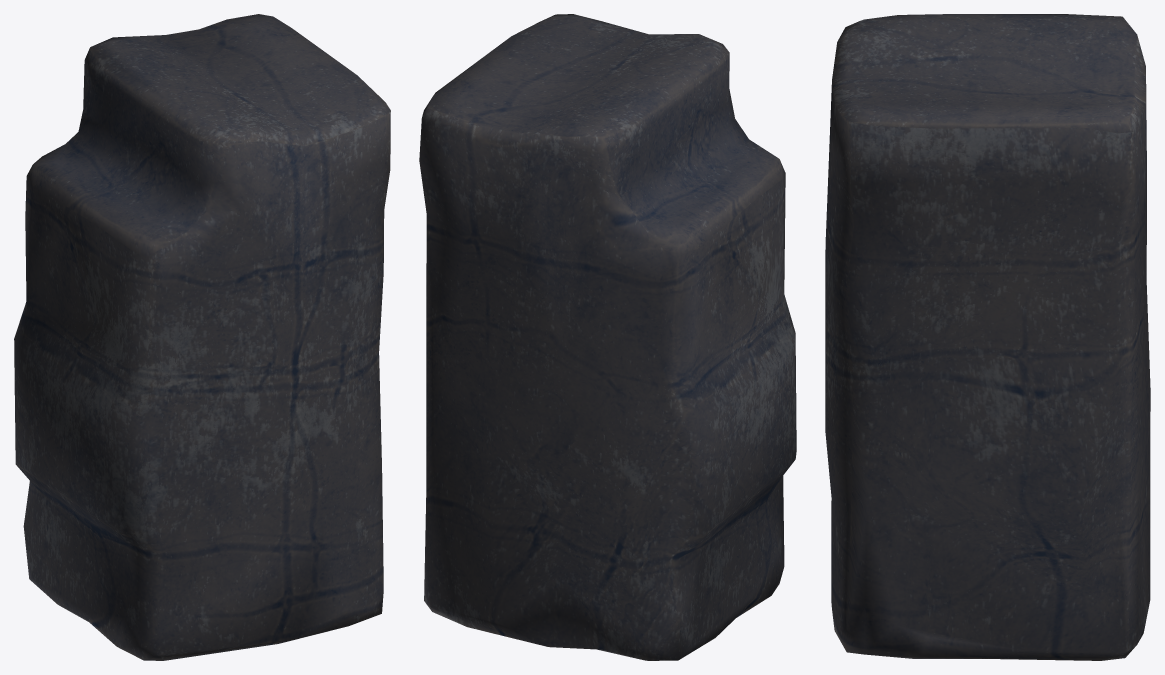
File: obstacle_petit1.obj
3 renders of one model, left to right at view 1: azimuth 30°, elevation 25°; view 2: azimuth 150°, elevation 25°; view 3: azimuth 270°, elevation 25°, orthographic. The views are drawn at different scales.
Visible parts, largest first — view 1: obstacle_petit1.001; view 2: obstacle_petit1.001; view 3: obstacle_petit1.001.
Part boxes in pixels (box(x1,y1,x2,y2)): obstacle_petit1.001: box(14, 14, 390, 660); obstacle_petit1.001: box(419, 14, 796, 660); obstacle_petit1.001: box(825, 14, 1150, 660).
Size of the model in its own units: 634 by 1144 by 605.
Materials: 1 (1 with a texture image).
